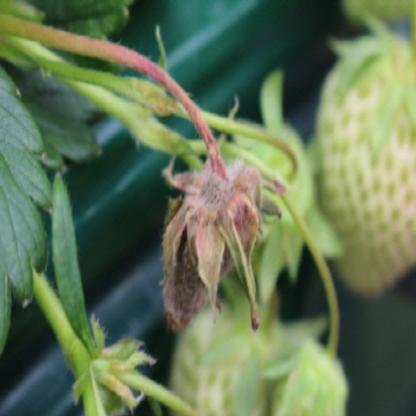Strawberry_Gray_Mold: (160, 120, 288, 336)
